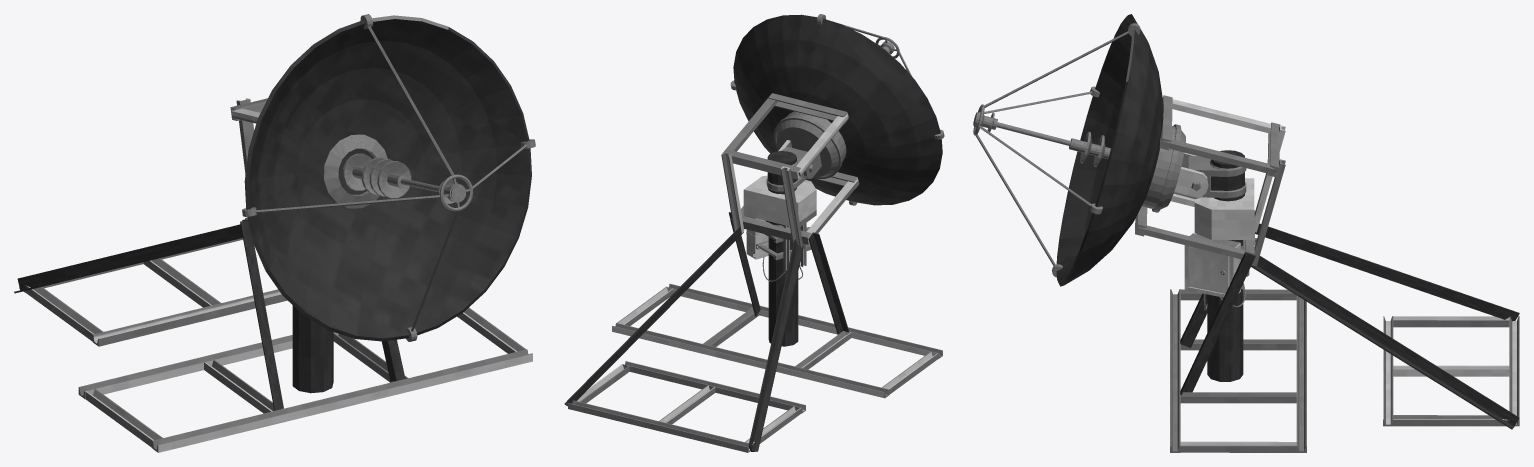
The model's file is prop-satellite-dish-small.fbx.
The picture shows the model from 3 angles, left to right: view 1: azimuth 30°, elevation 25°; view 2: azimuth 150°, elevation 25°; view 3: azimuth 270°, elevation 25°; orthographic projection. The views are drawn at different scales.
Visible parts, largest first — view 1: antenna35.036; view 2: antenna35.036; view 3: antenna35.036.
Boxes of the visible parts, bbox=[...] form: antenna35.036: bbox=[14, 14, 535, 452]; antenna35.036: bbox=[564, 14, 944, 452]; antenna35.036: bbox=[973, 14, 1519, 452].
Bounding box in the file's own units: 408 × 424 × 599.
